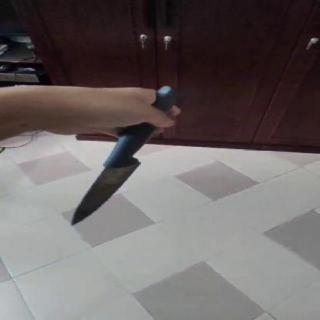knife: (68, 146, 148, 234)
